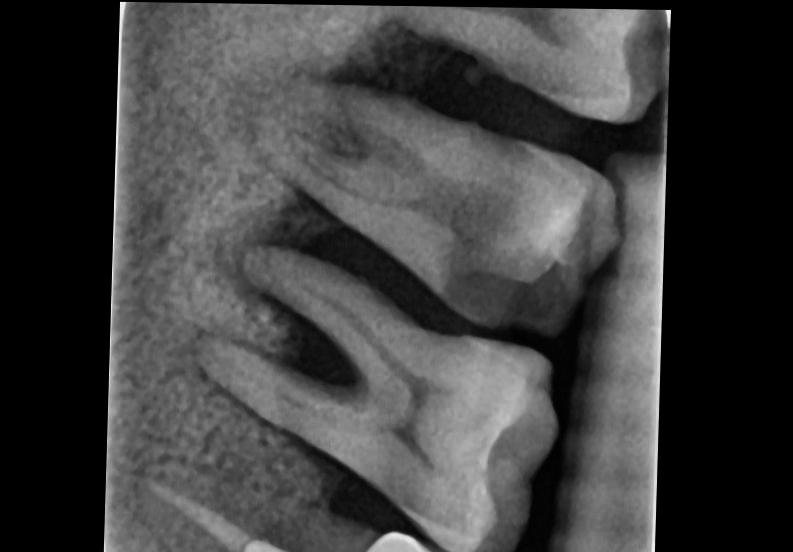Individual Tooth: (196, 239, 560, 552), (279, 78, 621, 334), (139, 456, 481, 552), (397, 5, 670, 125)
